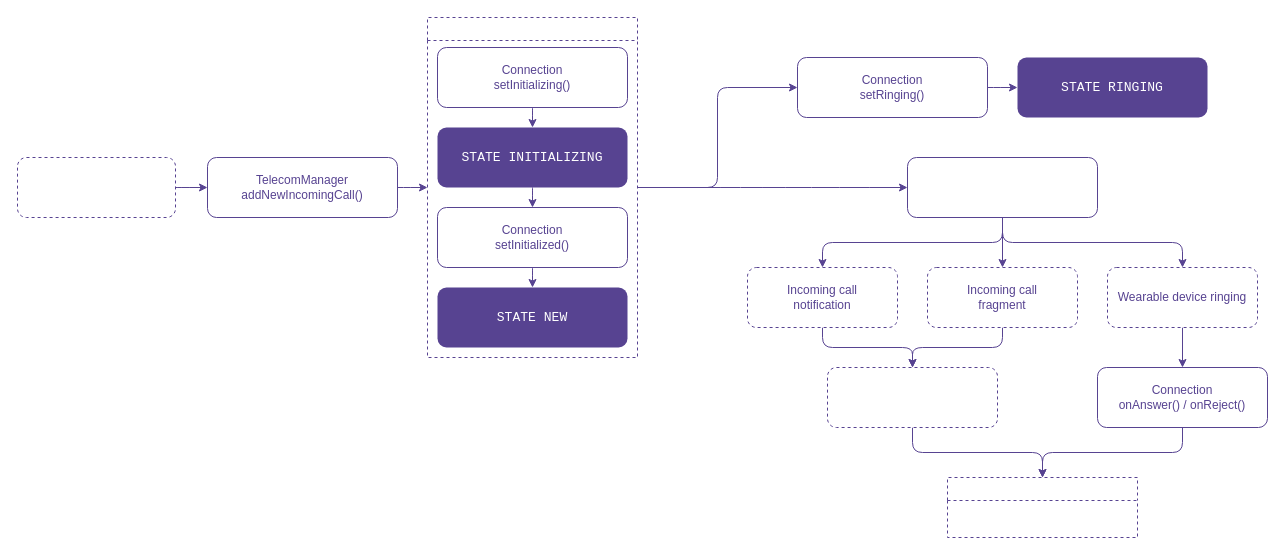
Image size: 1285x555. Some labels were removed from this diagram. The shapes that lost their labels are listed below. From the top down, each one's box as (x1, y1, x2, y2) in pixels, then its label:
(16, 156, 176, 218): IClientIncomingCallListener onIncomingCall()
(426, 16, 638, 358): Create a new Connection
(906, 156, 1098, 218): Connection onShowIncomingCallUi()
(826, 366, 998, 428): ICall answer / reject
(946, 476, 1138, 538): Manage ongoing call
